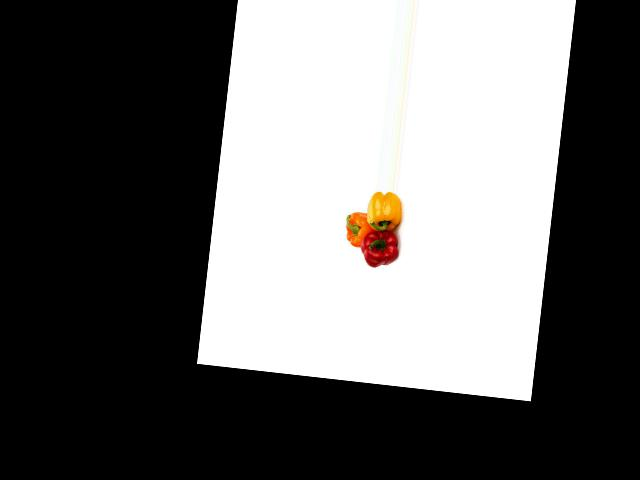bell_pepper: (364, 189, 407, 231)
